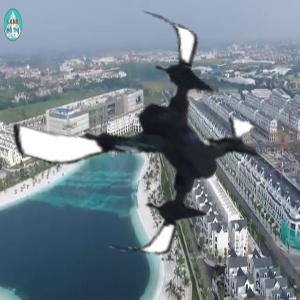drone: (13, 8, 268, 263)
